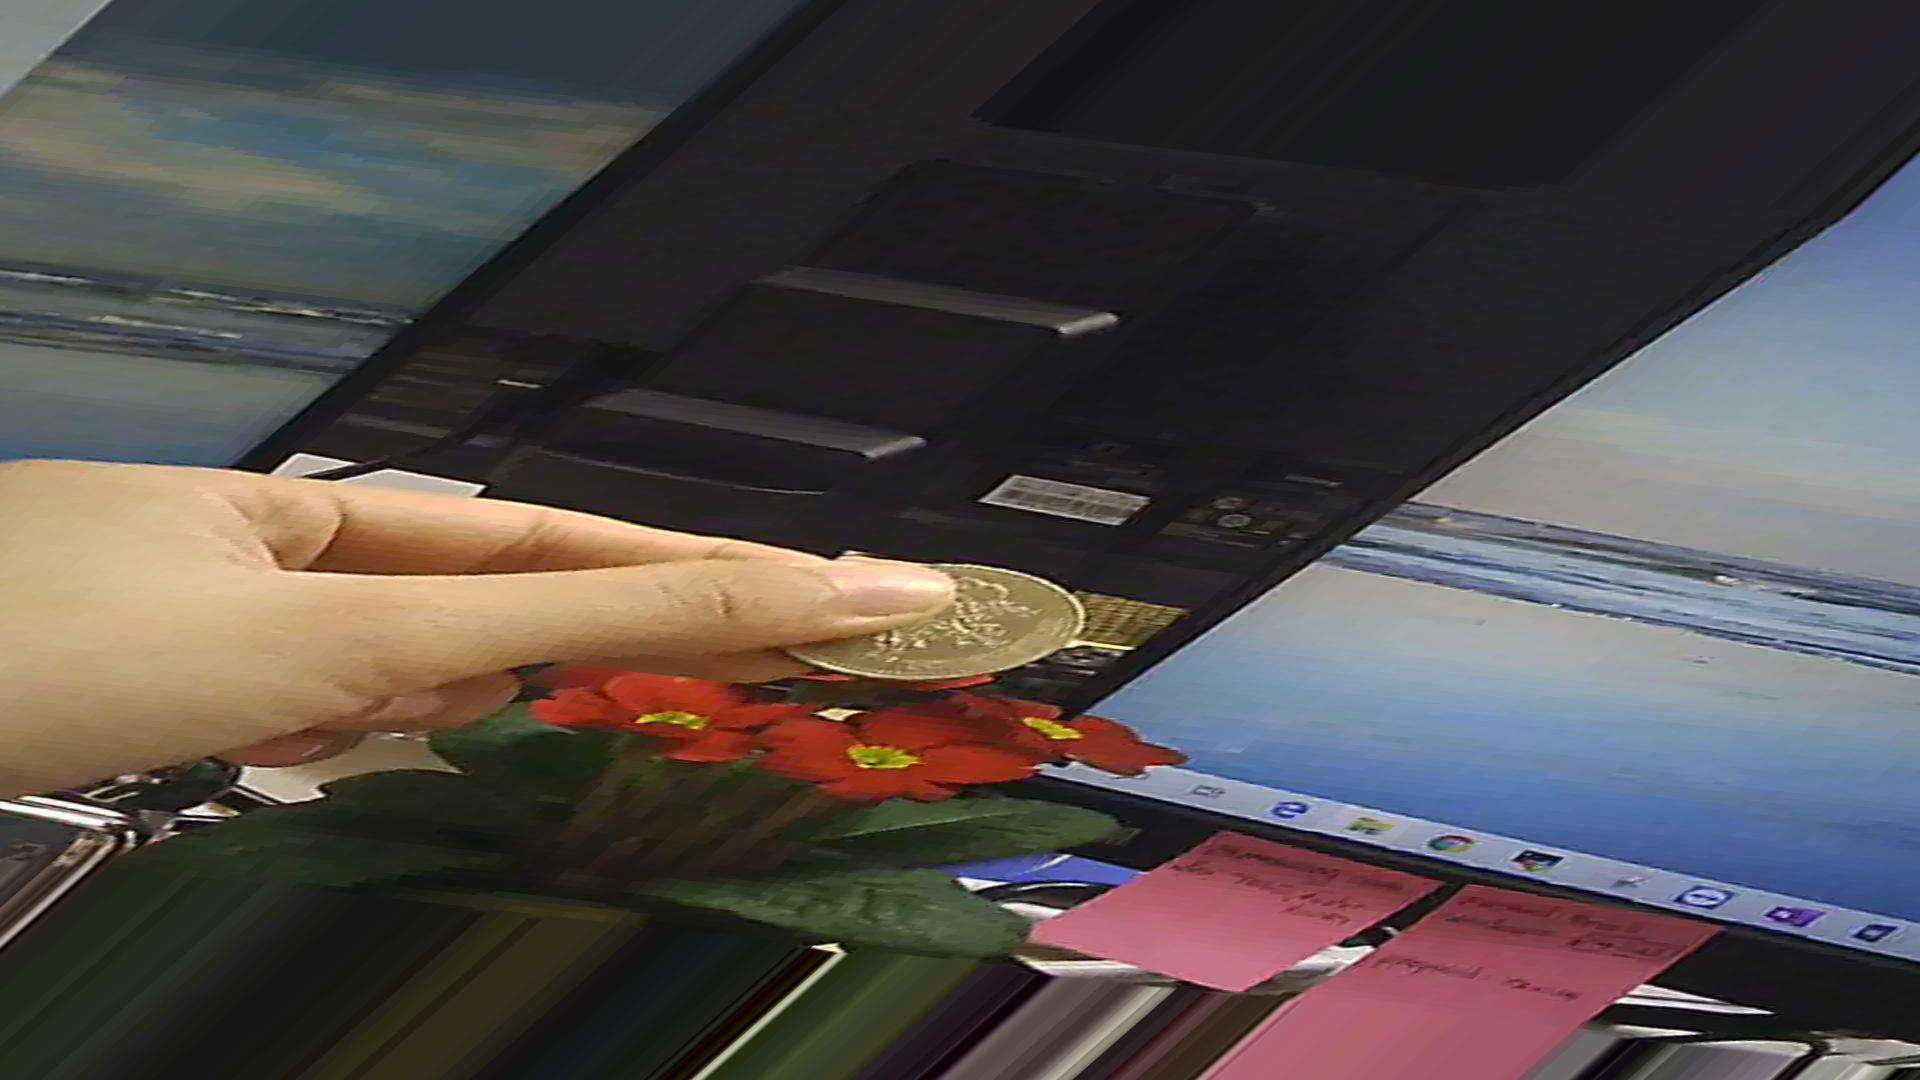500 Yen: (781, 542, 1126, 691)
